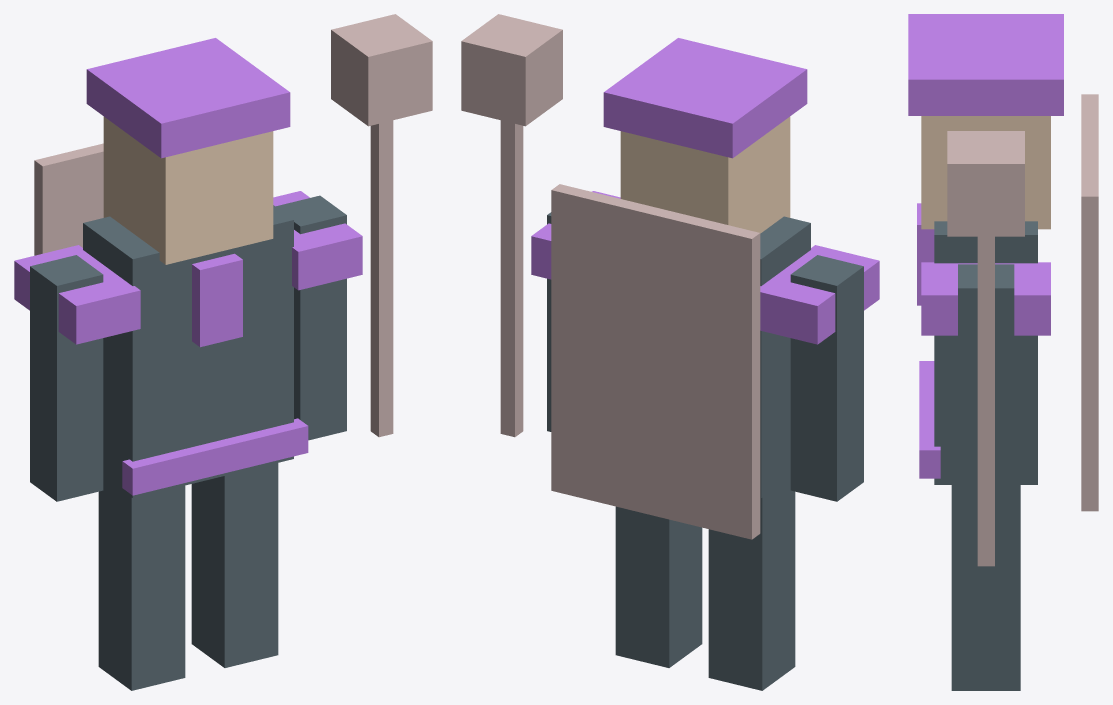
File: 11_keir_cinderholt_tactician_under_emergency.glb
The picture shows the model from 3 angles, left to right: view 1: azimuth 30°, elevation 25°; view 2: azimuth 150°, elevation 25°; view 3: azimuth 270°, elevation 25°; orthographic projection. The views are drawn at different scales.
Parts seen in each view (by area): view 1: Keir Cinderholt, Tactician under Emergency; view 2: Keir Cinderholt, Tactician under Emergency; view 3: Keir Cinderholt, Tactician under Emergency.
Part boxes in pixels (x1,y1,x2,y2): Keir Cinderholt, Tactician under Emergency: (14, 14, 432, 690); Keir Cinderholt, Tactician under Emergency: (461, 14, 879, 690); Keir Cinderholt, Tactician under Emergency: (908, 14, 1098, 690).
Bounding box in the file's own units: 1.06 × 1.59 × 0.4512.
